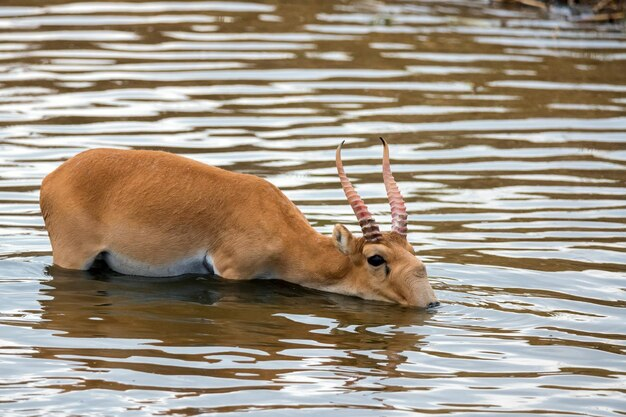saiga: (39, 139, 444, 308)
